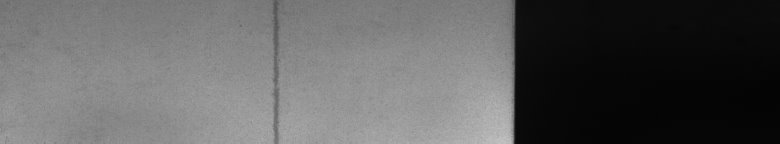hd: (264, 4, 284, 136)
